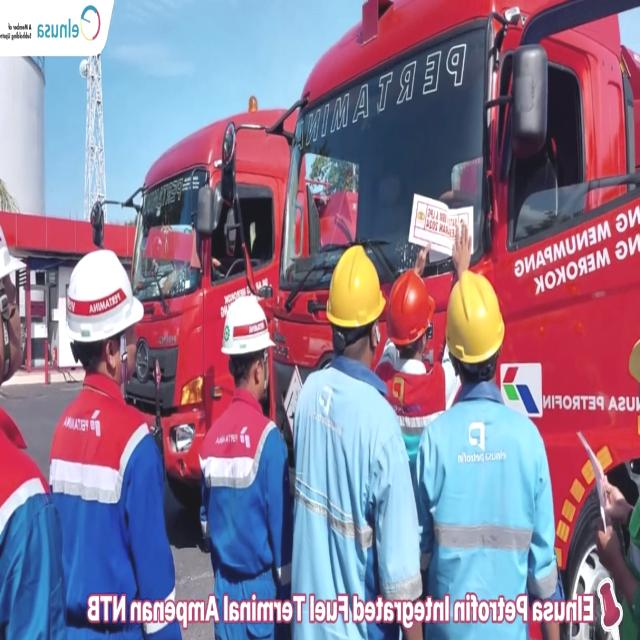Hardhat: (66, 254, 144, 340), (445, 275, 505, 363), (327, 249, 384, 328), (386, 272, 434, 345), (222, 297, 276, 353), (0, 190, 28, 294), (628, 313, 640, 402)
No Glove: (592, 522, 630, 596), (451, 227, 470, 274), (595, 480, 621, 514), (402, 621, 429, 640), (539, 623, 566, 640), (410, 250, 427, 274)
Overall Suit: (55, 370, 183, 640), (199, 385, 293, 640), (0, 383, 68, 640)
Strapped: (1, 277, 12, 367), (117, 328, 130, 377), (262, 348, 270, 390)
